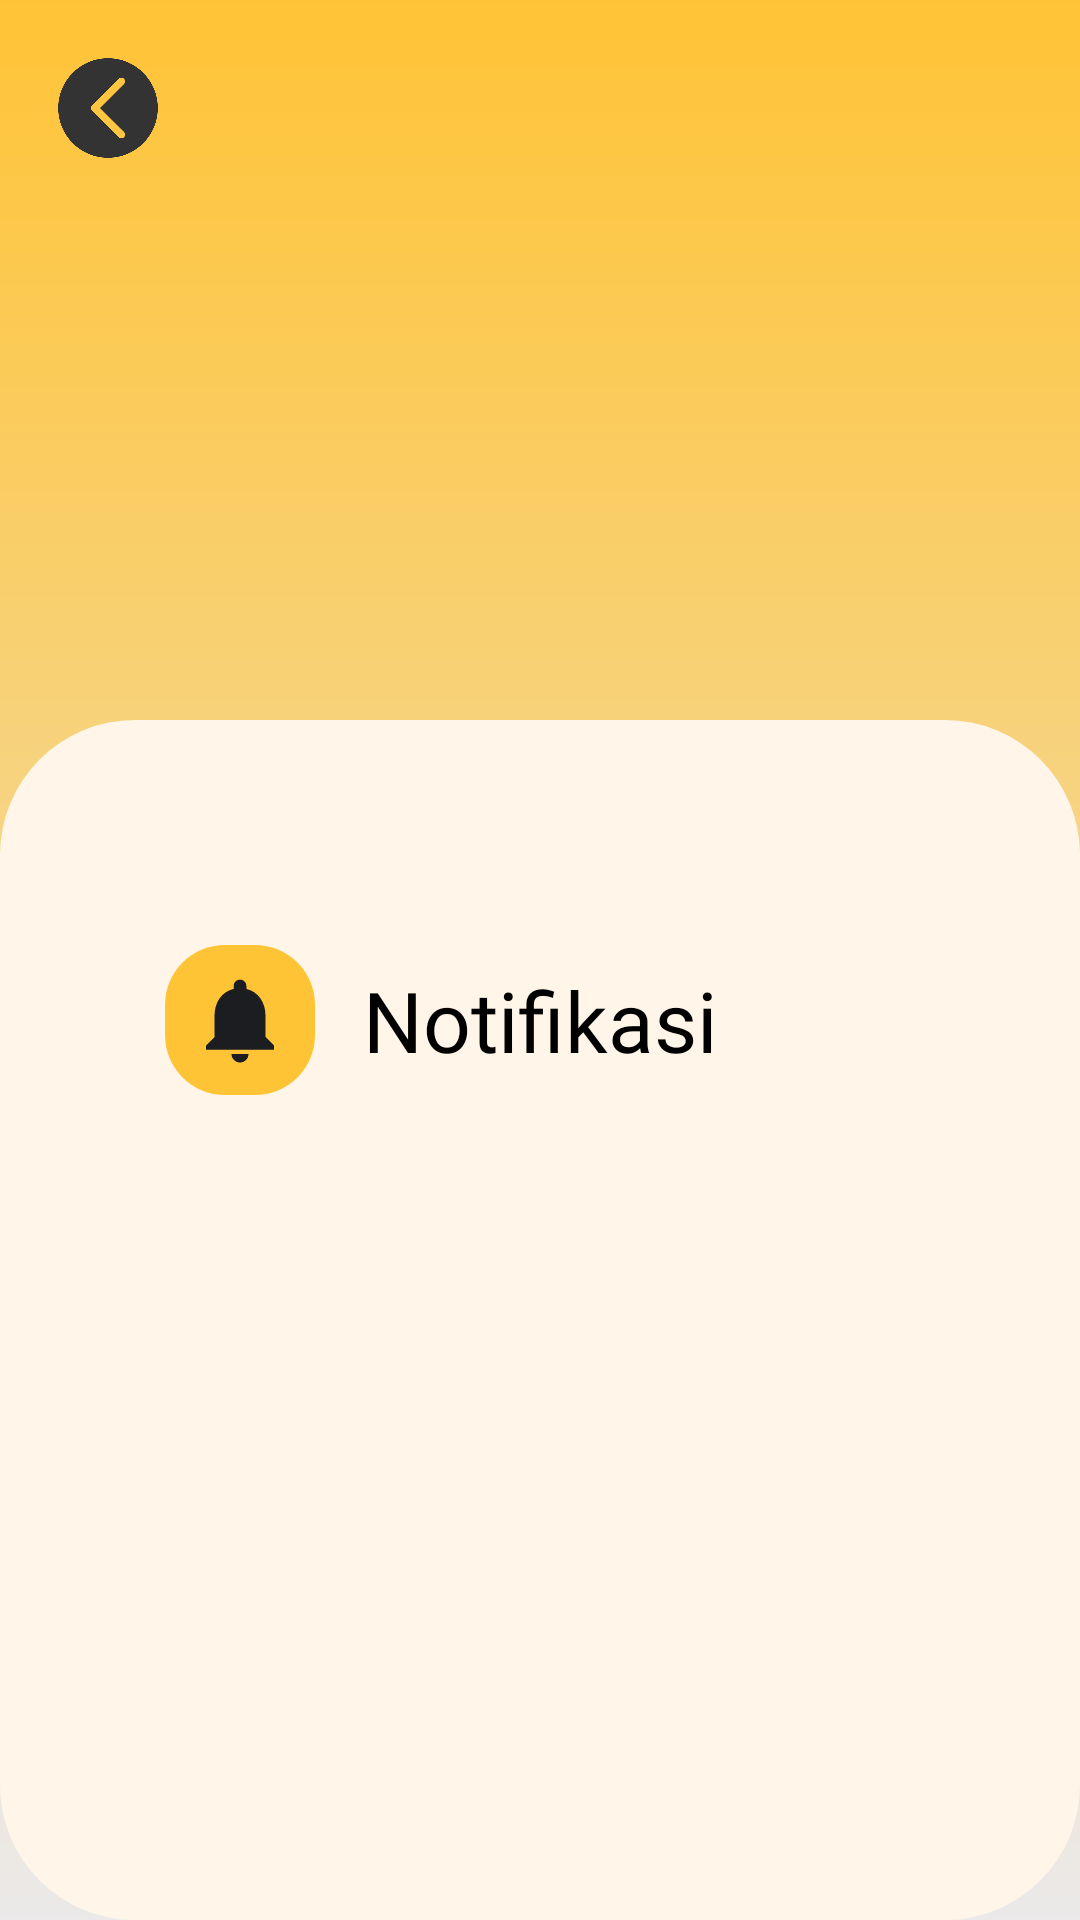

Icon bounding boxes for this 1080w x 1920h phone screenshot, format (x1,y1,x2,y2):
back: (58,58,158,158)
